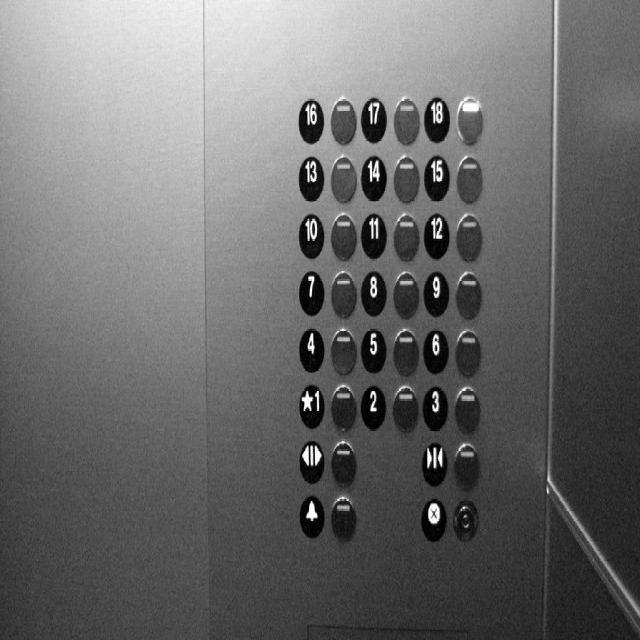10: (296, 210, 324, 259)
11: (359, 209, 387, 257)
12: (422, 209, 449, 257)
13: (296, 151, 324, 200)
14: (359, 152, 387, 200)
15: (422, 152, 449, 200)
16: (296, 94, 324, 144)
17: (359, 94, 386, 144)
18: (422, 94, 449, 142)
2: (359, 381, 386, 429)
3: (421, 380, 448, 428)
4: (296, 321, 323, 370)
5: (359, 324, 386, 372)
6: (421, 324, 449, 372)
7: (295, 264, 323, 314)
8: (359, 266, 387, 314)
9: (421, 268, 449, 316)
alarm: (297, 490, 325, 538)
close: (420, 438, 448, 486)
empty: (328, 94, 356, 144), (328, 324, 356, 374), (455, 94, 483, 144), (391, 152, 419, 201), (391, 210, 419, 259), (454, 152, 482, 201), (454, 210, 482, 259), (452, 383, 480, 432), (452, 440, 480, 489), (329, 436, 356, 486), (392, 94, 419, 144), (391, 324, 418, 374), (391, 268, 419, 316), (454, 268, 482, 316), (329, 210, 356, 259), (329, 381, 356, 430), (329, 492, 356, 541), (391, 381, 418, 430), (329, 154, 356, 202), (329, 268, 356, 316), (454, 326, 481, 374)
keyhole: (451, 494, 479, 542)
open: (297, 436, 325, 484)
s1: (296, 378, 323, 427)
stop: (419, 492, 447, 540)
